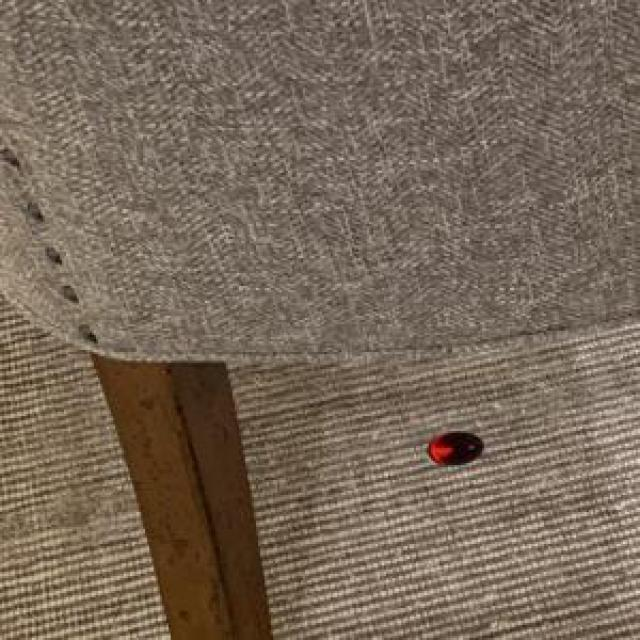Medicol: (410, 418, 492, 483)
